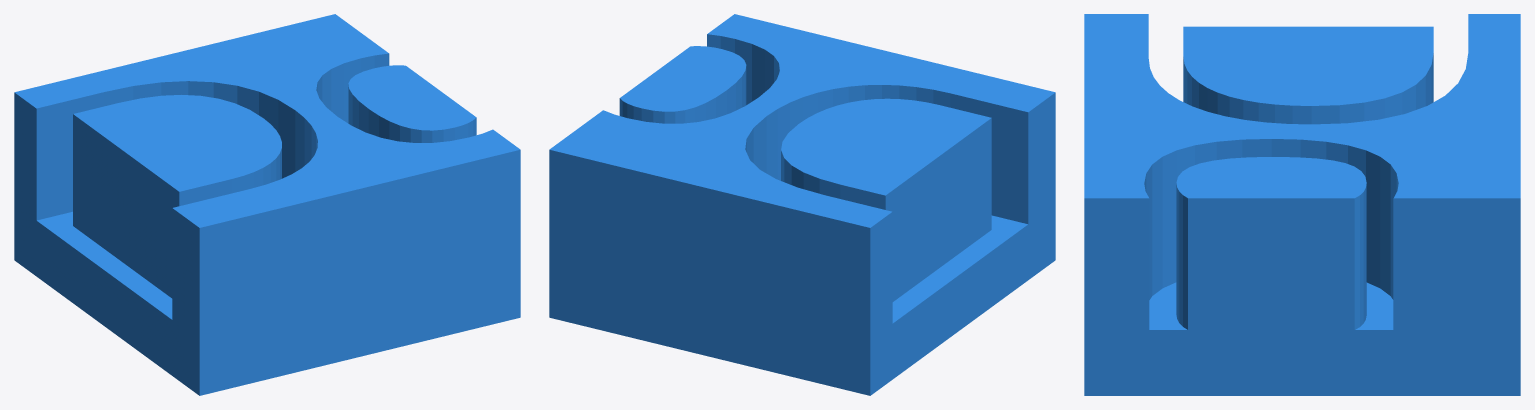
Rendered from dc-letter-blue.gltf.
3 renders of one model, left to right at view 1: azimuth 30°, elevation 25°; view 2: azimuth 150°, elevation 25°; view 3: azimuth 270°, elevation 25°, orthographic. The views are drawn at different scales.
Parts seen in each view (by area): view 1: LetterBlock-Blue; view 2: LetterBlock-Blue; view 3: LetterBlock-Blue.
Boxes of the visible parts, x1=… form: LetterBlock-Blue: x1=14, y1=14, x2=520, y2=395; LetterBlock-Blue: x1=549, y1=14, x2=1055, y2=395; LetterBlock-Blue: x1=1084, y1=14, x2=1520, y2=395.
Size of the model in its own units: 30 by 15 by 30.
